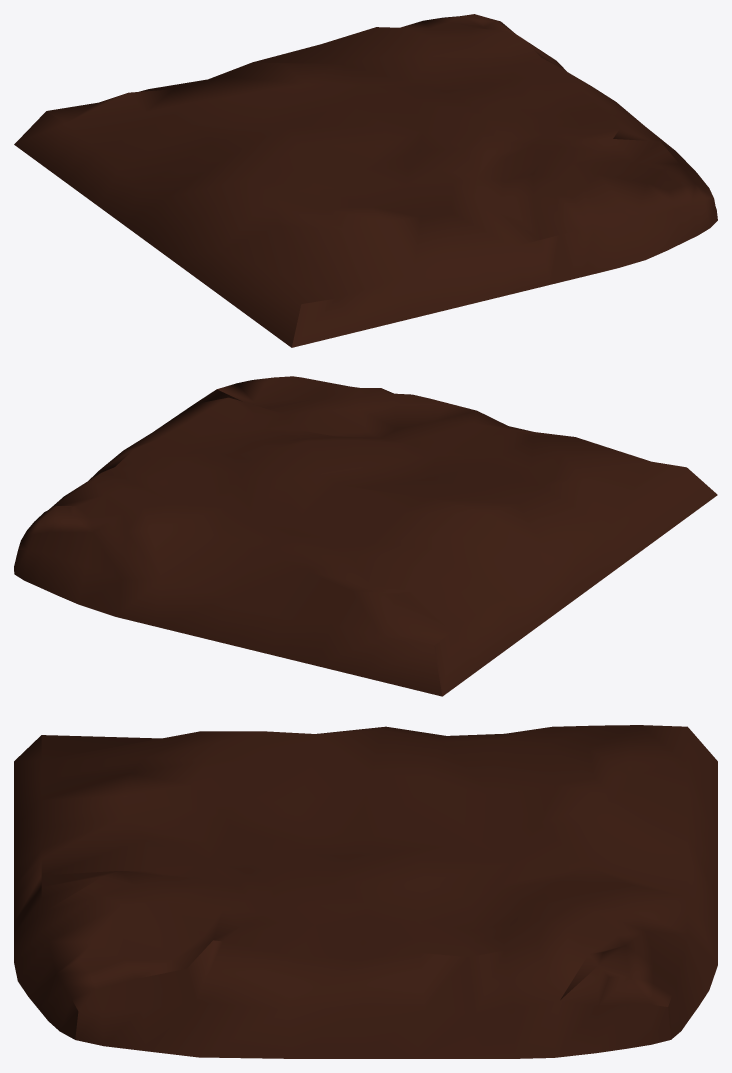
Rendered from Soil Test End.fbx.
3 renders of one model, top to bottom at view 1: azimuth 30°, elevation 25°; view 2: azimuth 150°, elevation 25°; view 3: azimuth 270°, elevation 25°, orthographic. The views are drawn at different scales.
Visible parts, largest first — view 1: Soil_Test_End; view 2: Soil_Test_End; view 3: Soil_Test_End.
Boxes of the visible parts, box(x1,y1,x2,y2) form: Soil_Test_End: box(14, 14, 717, 347); Soil_Test_End: box(14, 376, 717, 696); Soil_Test_End: box(14, 725, 717, 1058).
Bounding box in the file's own units: 100 × 13.17 × 100.
Materials: 1 (1 with a texture image).
